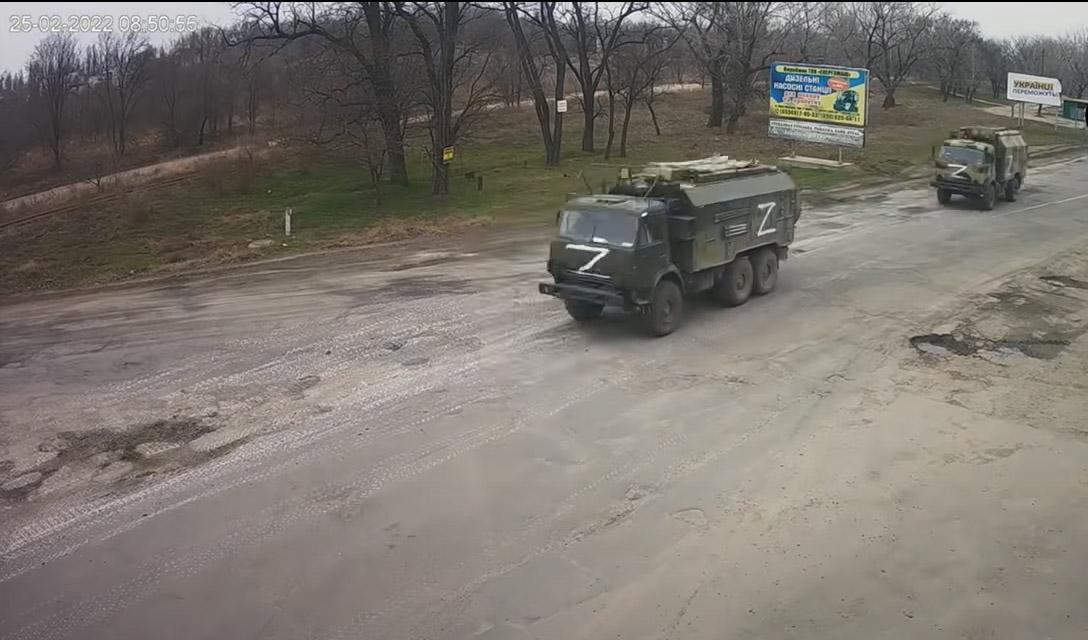truck: (536, 156, 814, 342), (924, 129, 1032, 212)
